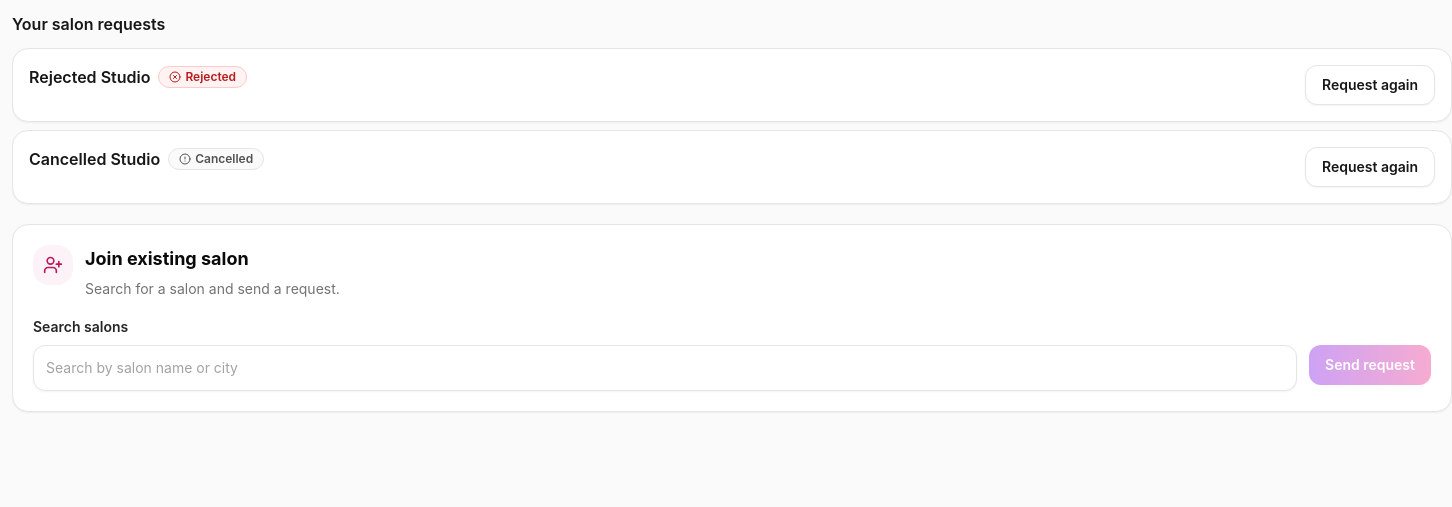
Test case: SalonJoinView › keeps rejected and cancelled salons searchable and requestable
The image size is (1452, 507).
Type "Studio" into the dropdown labelled "Search salons" at (665, 368), box [33,345,1297,391]
Wait 250 ms
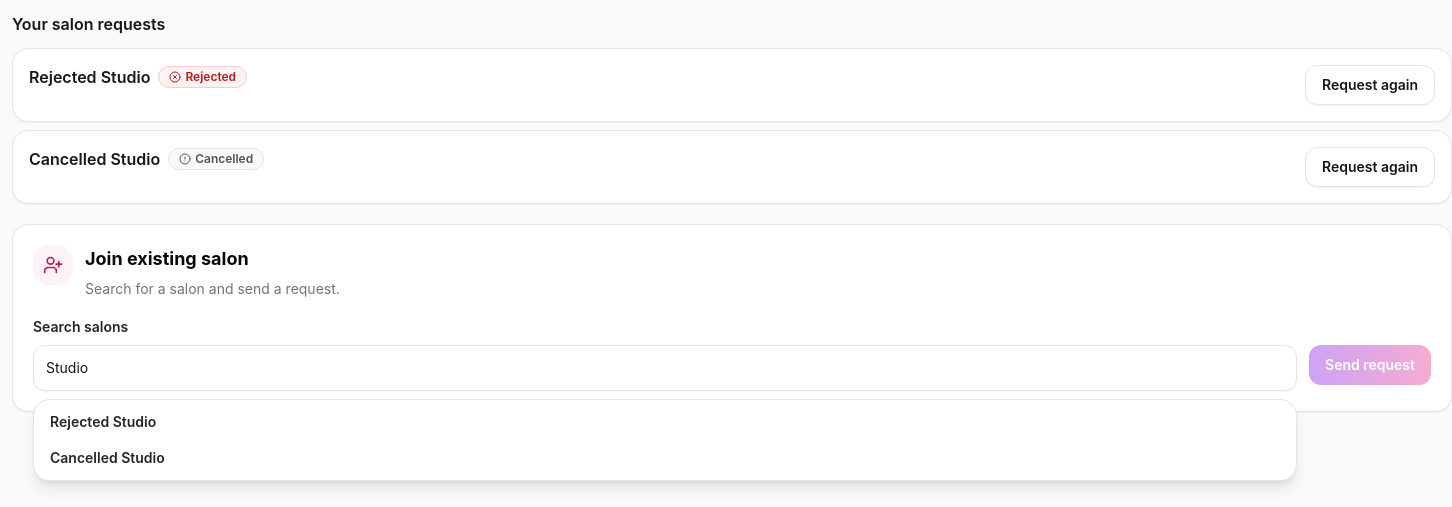
Check: the number of buttons "Request again" is 2, box [1305,65,1435,105]; [1305,147,1435,187]
Check: the option "Rejected Studio" is shown, box [50,413,156,430]
Check: the option "Cancelled Studio" is shown, box [50,449,165,466]
